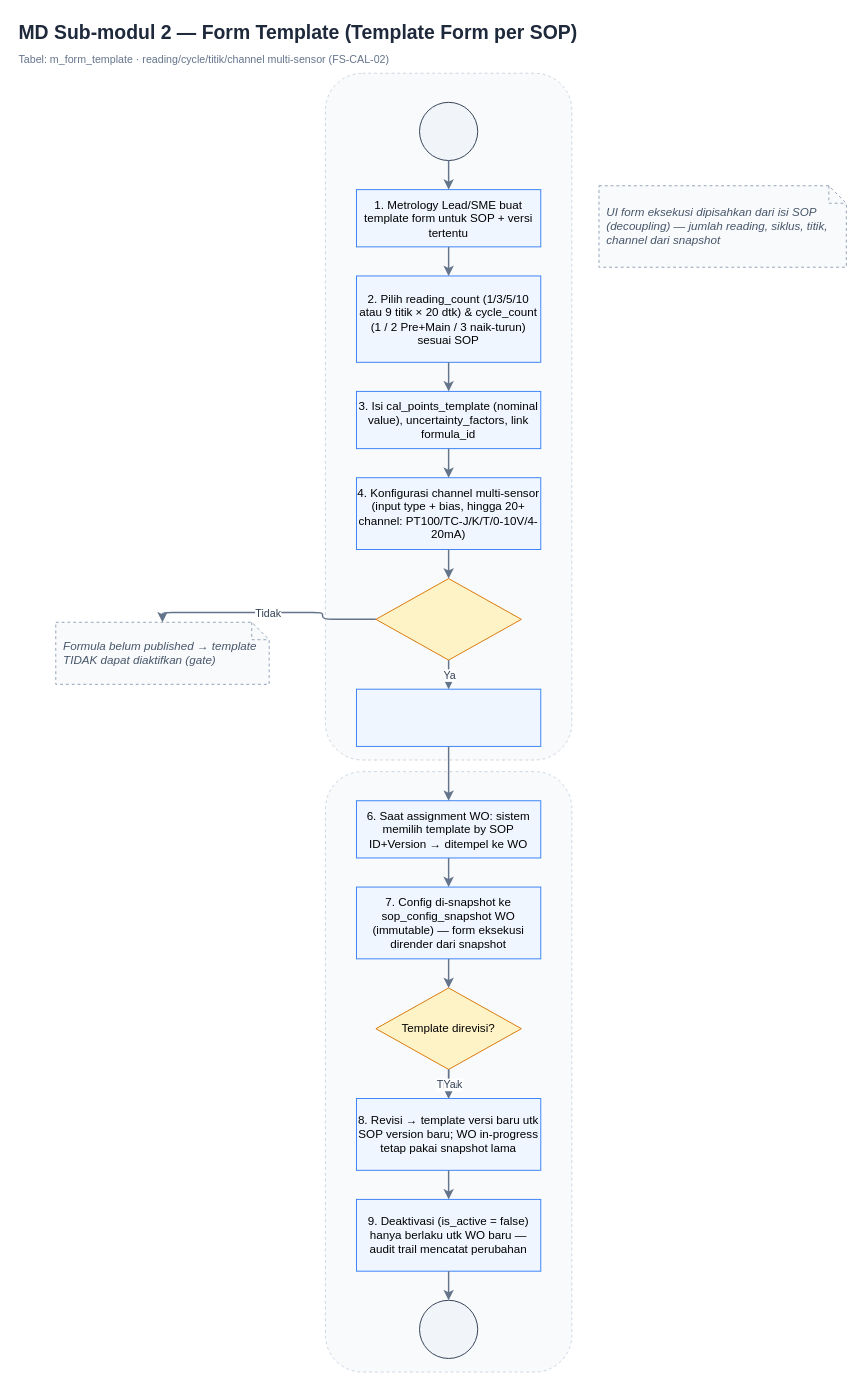
This 863x1389 diagram has some shape labels left out. Each missing label, with the box of its shape:
5. Submit → review → approval e-sign → is_active = true: (356, 688, 541, 746)
Fase 1 — Pembuatan, validasi & approval: (324, 72, 572, 760)
Fase 2 — Pemakaian & siklus versi: (324, 771, 572, 1372)
Mulai: (419, 101, 478, 161)
Selesai: (419, 1299, 478, 1358)
SOP effective & formula published?: (375, 578, 521, 660)
